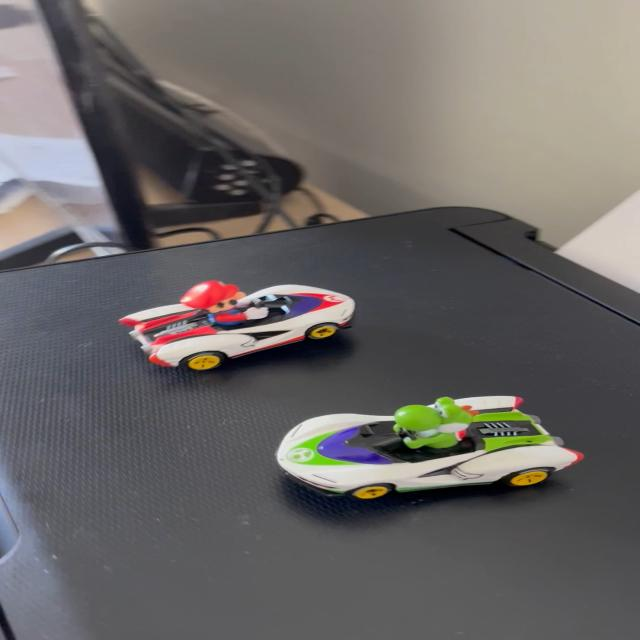mario: (107, 271, 373, 368)
yoshi: (261, 383, 591, 502)
